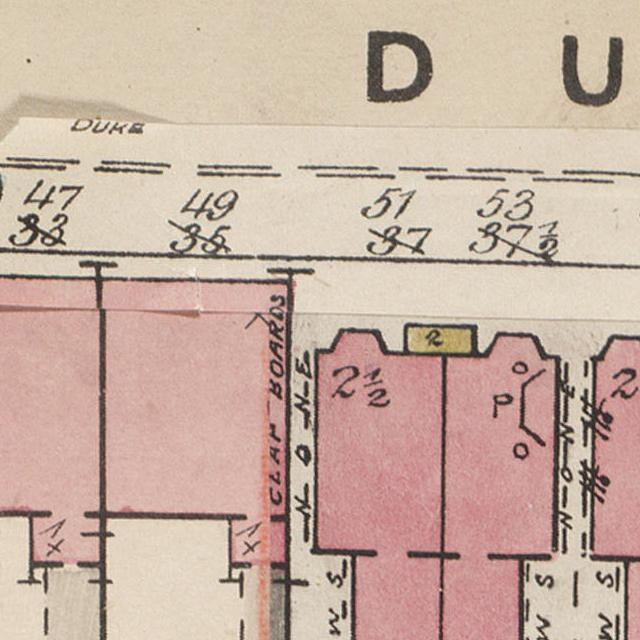building-footprints: (102, 279, 290, 566), (316, 331, 444, 640), (442, 334, 558, 640), (0, 278, 104, 565), (592, 337, 640, 640), (45, 564, 104, 640), (241, 564, 288, 640), (406, 325, 475, 354)
